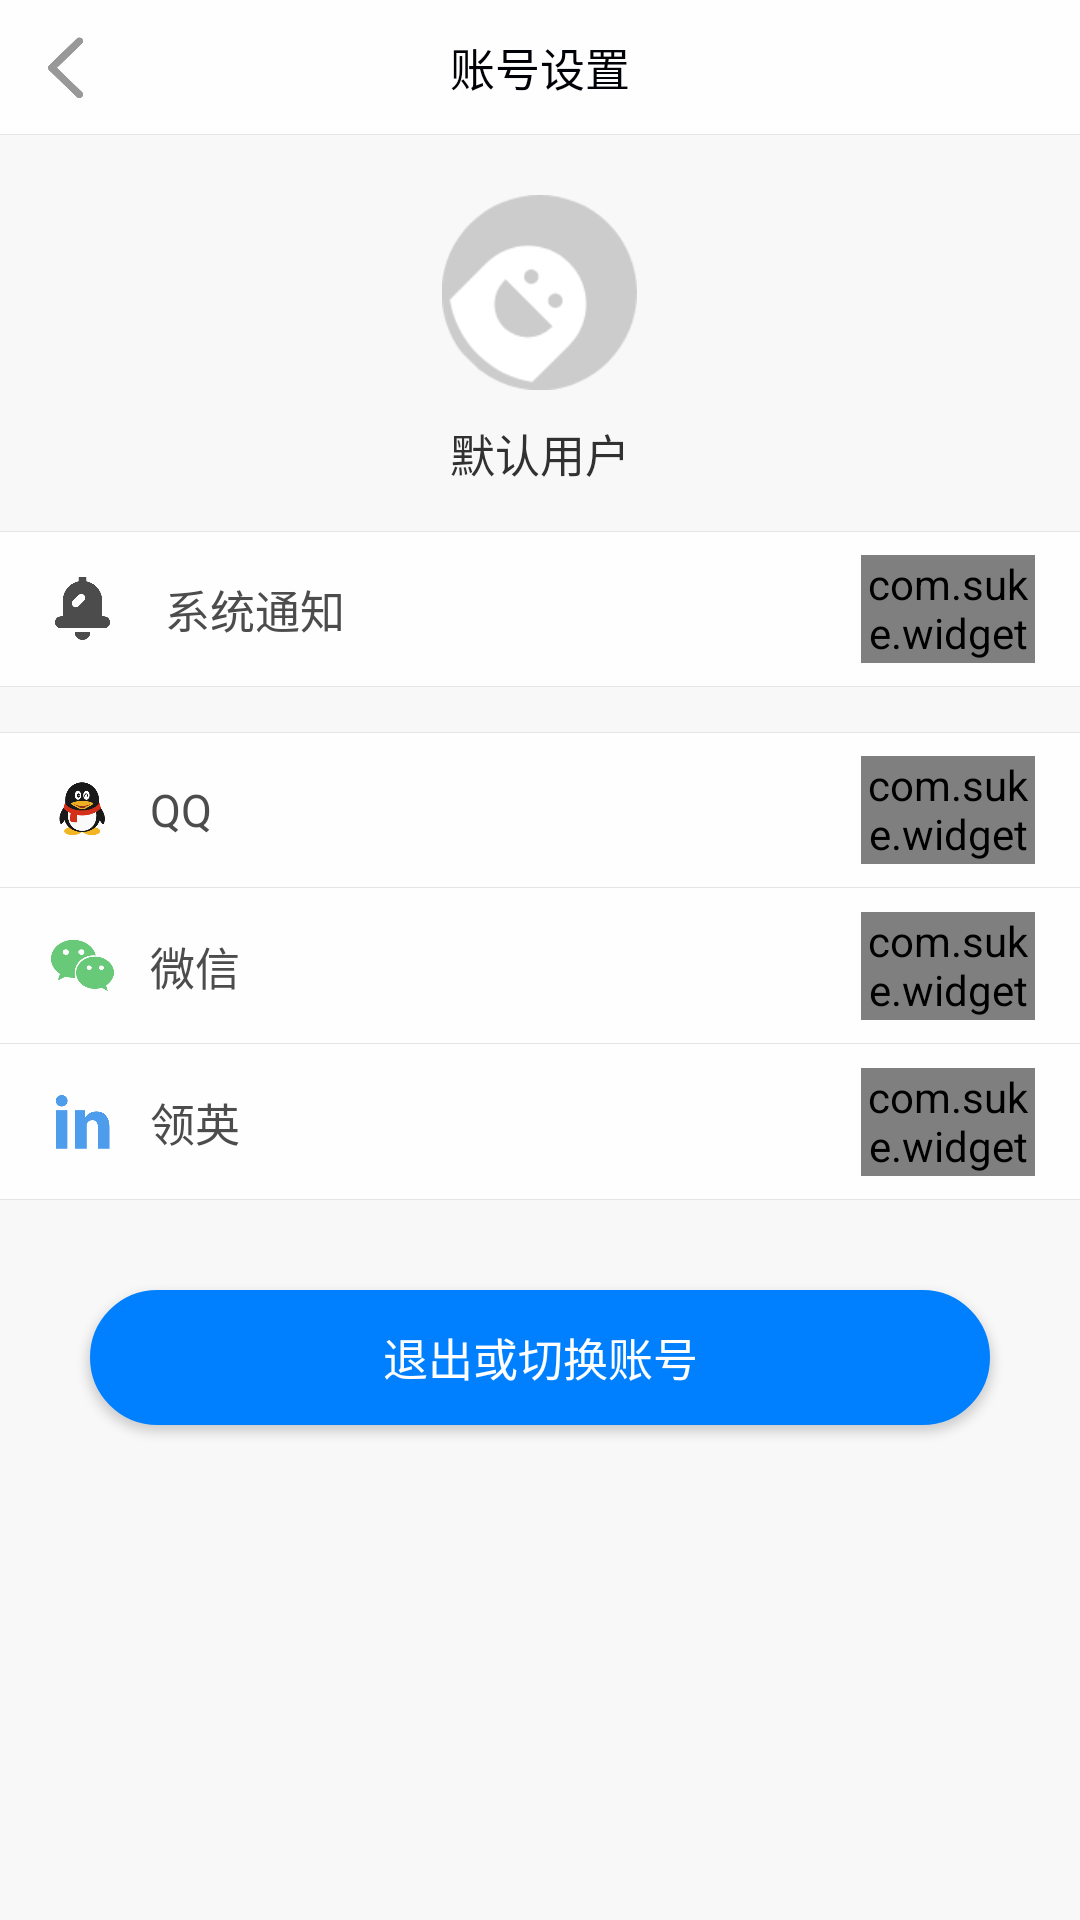

Screen size 1080px x 1920px. Icon name, then its box in pixels as {"x1": x1, "y1": y1, "x2": x2, "y2": y2}:
back: {"x1": 48, "y1": 37, "x2": 83, "y2": 98}
head: {"x1": 442, "y1": 195, "x2": 637, "y2": 390}
setting notify: {"x1": 55, "y1": 577, "x2": 110, "y2": 640}
